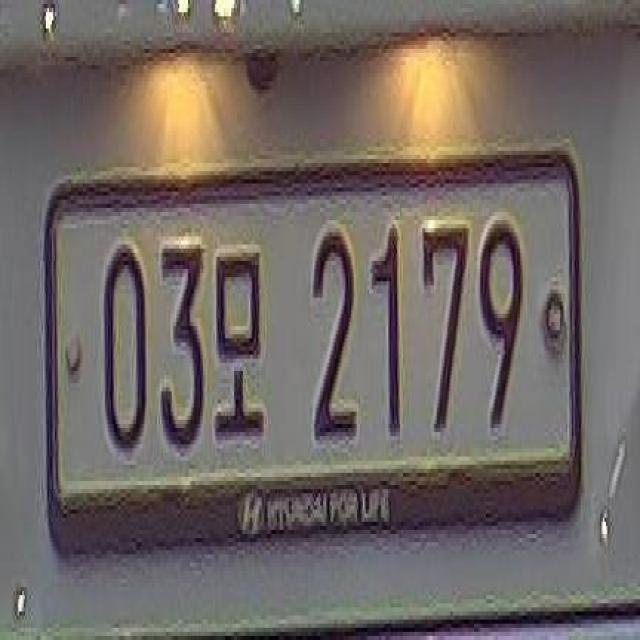illegal_plate: (42, 150, 593, 563)
